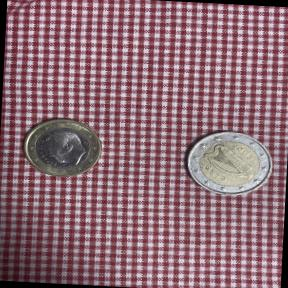coin: (178, 127, 278, 202), (19, 112, 108, 182)
